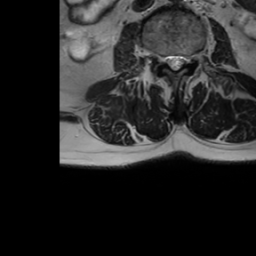CCS_stenosis: (171, 47, 178, 77)
LFS_normal: (185, 48, 193, 71)
LLS_normal: (178, 48, 185, 73)
RFS_normal: (158, 48, 165, 69)
RLS_normal: (165, 49, 171, 71)
